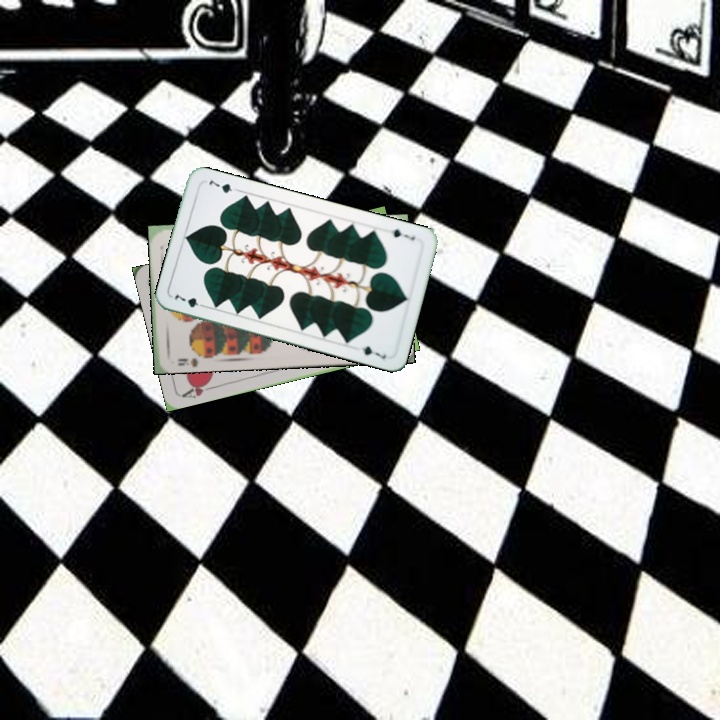G7: (170, 288, 209, 310), (388, 225, 417, 243)
HA: (178, 376, 218, 401)
S9: (173, 348, 209, 368)
